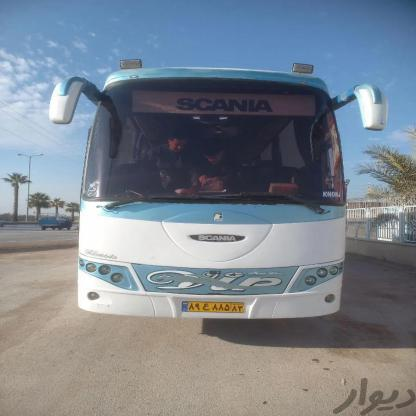Bus: (62, 72, 377, 330)
Car: (31, 216, 71, 245)
